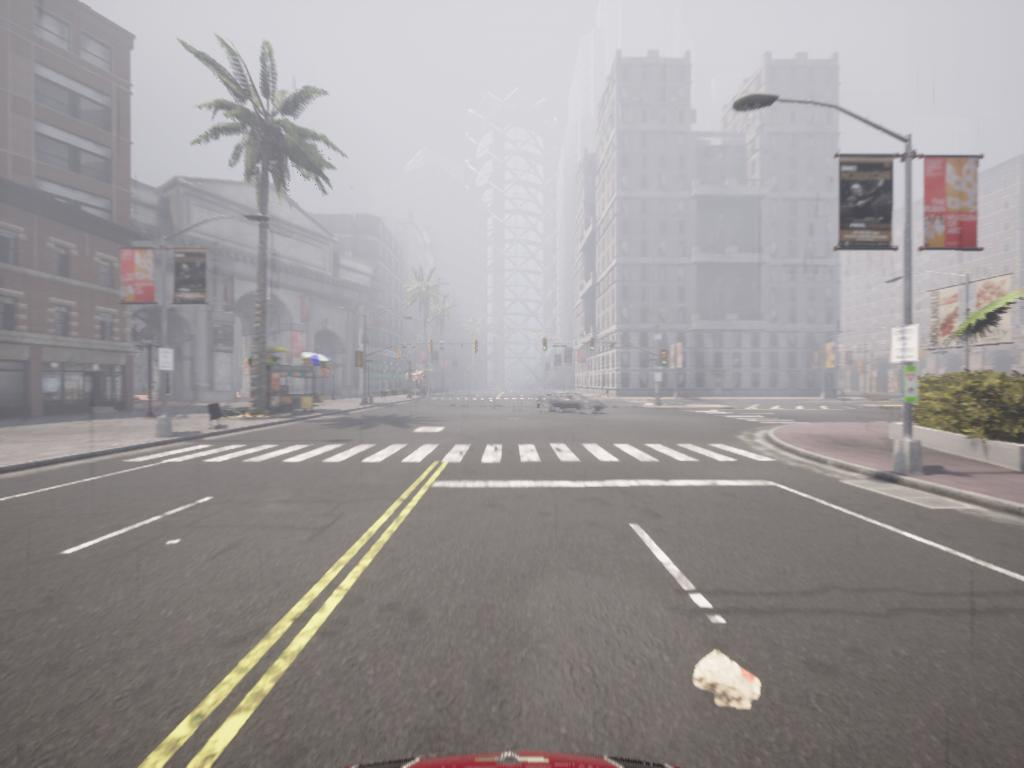traffic_light: (661, 350, 669, 367), (544, 338, 549, 351), (591, 338, 595, 351)
